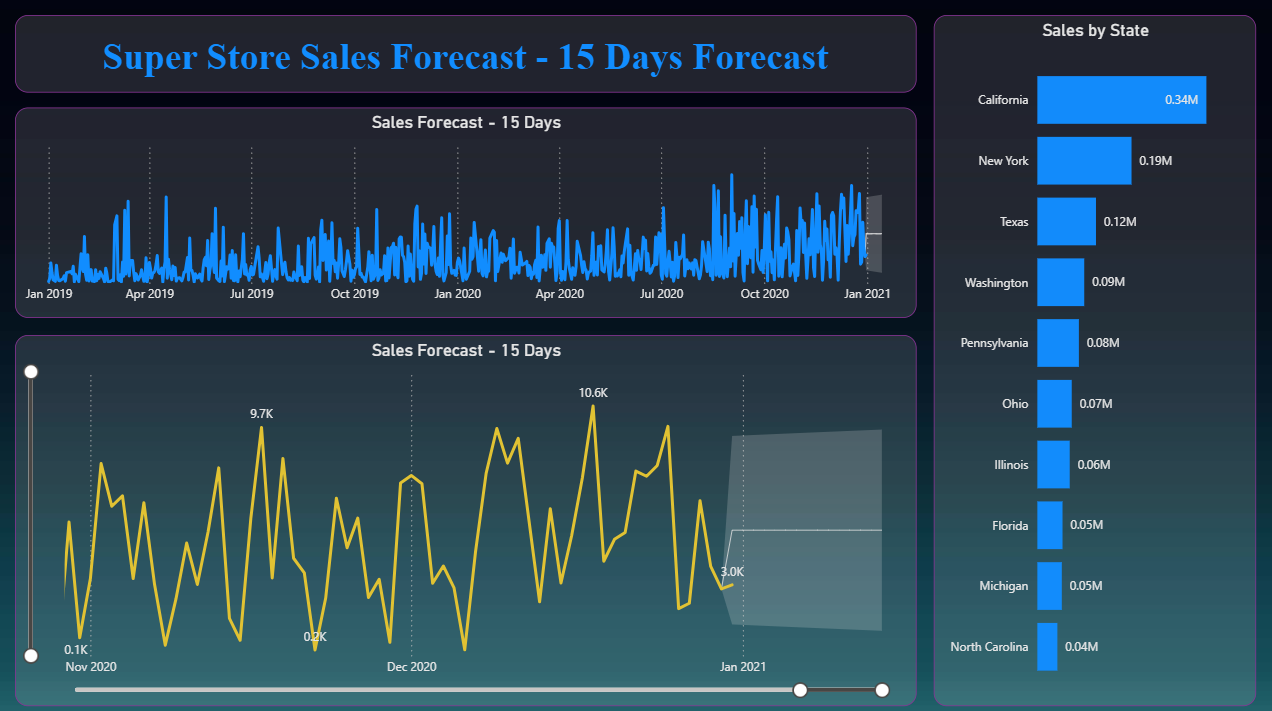

The page's visual inventory and layout, read from the dashboard file:
{"tool":"powerbi","page":{"name":"Forecast","canvas":[1280,720],"ordinal":1},"visuals":[{"type":"lineChart","title":"Sales Forecast - 15 Days","fields":{"Y":["Sum(SuperStore_Sales_Dataset.Sales)"],"Category":["SuperStore_Sales_Dataset.Order Date"]},"box":[15,112.5,901.2,210],"z":0},{"type":"lineChart","title":"Sales Forecast - 15 Days","fields":{"Y":["Sum(SuperStore_Sales_Dataset.Sales)"],"Category":["SuperStore_Sales_Dataset.Order Date"]},"box":[15,340,901.2,371.2],"z":1000},{"type":"clusteredBarChart","title":"Sales by State","fields":{"Y":["Sum(SuperStore_Sales_Dataset.Sales)"],"Category":["SuperStore_Sales_Dataset.State"]},"box":[933.8,20,322.5,691.2],"z":2000},{"type":"textbox","box":[15,20,901.2,77.5],"z":3000}]}

Visuals, with their boxes in screenshot pixels (x1, y1, x2, y2), scaled from the page's 1280x720 canvas onto the 1272x711 screenshot:
"Sales Forecast - 15 Days" lineChart: 15/111/910/318
"Sales Forecast - 15 Days" lineChart: 15/336/910/702
"Sales by State" clusteredBarChart: 928/20/1248/702
textbox: 15/20/910/96
